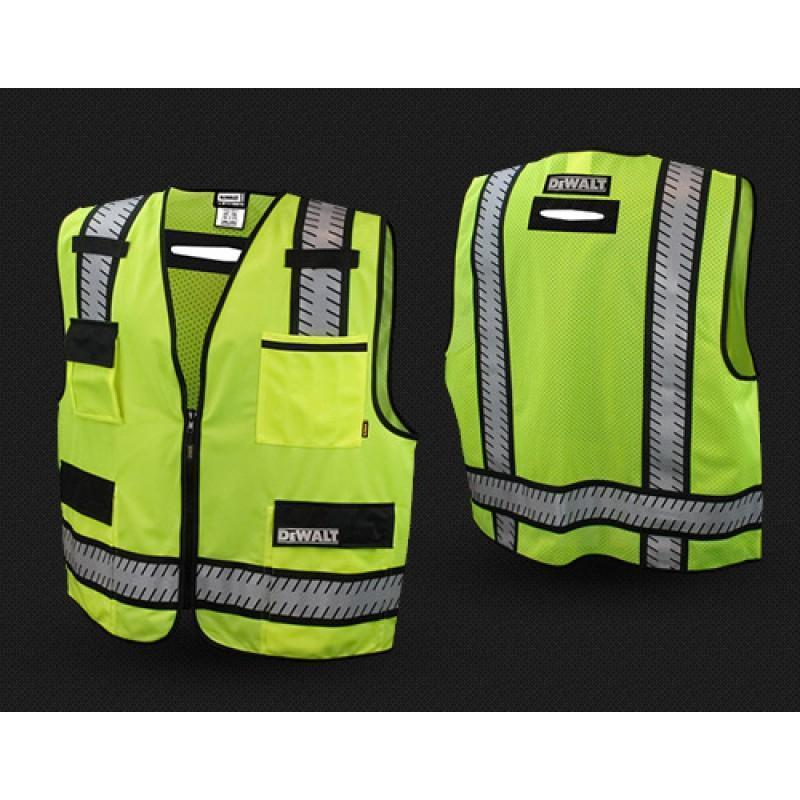vest: (53, 184, 419, 661), (446, 140, 763, 573)
